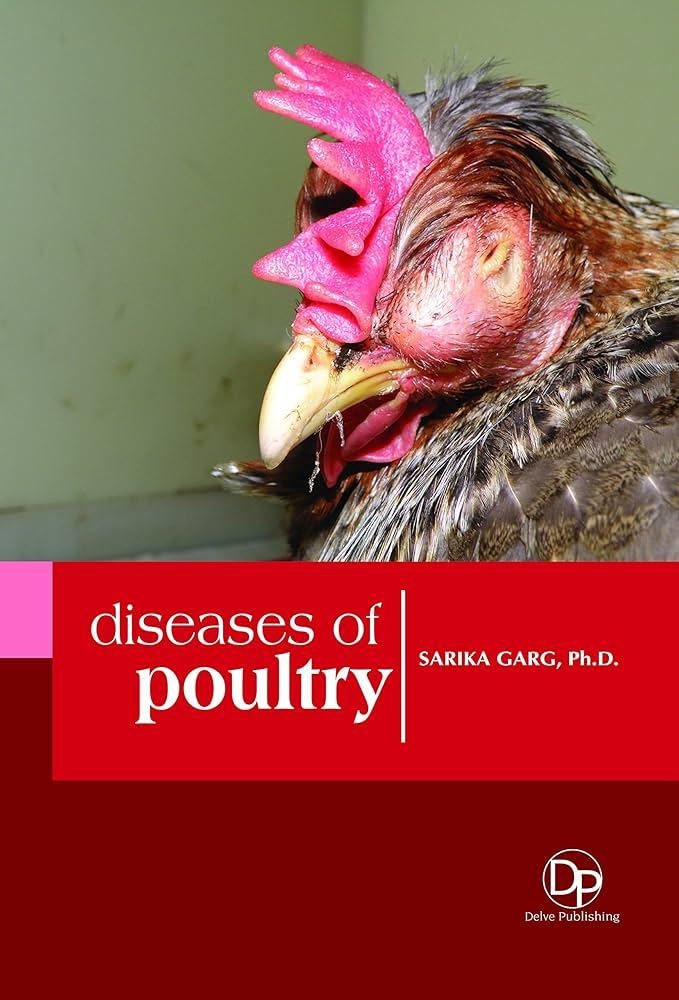AbNormal: (251, 43, 588, 487)
